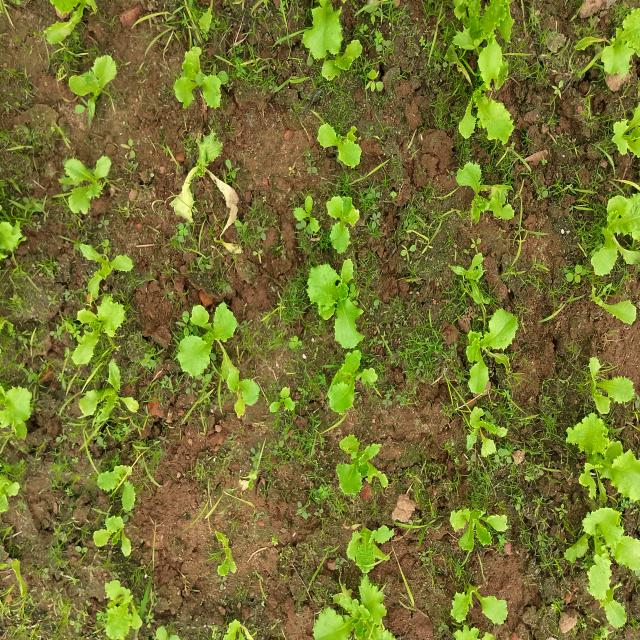Lettuce: (433, 0, 540, 87), (442, 57, 528, 152), (569, 166, 640, 264), (566, 6, 640, 100), (442, 318, 524, 399), (562, 502, 640, 586), (168, 296, 242, 377), (302, 586, 407, 640), (56, 56, 131, 127), (444, 415, 518, 486), (63, 287, 127, 369), (75, 582, 163, 640), (166, 46, 228, 128), (310, 0, 364, 83), (334, 428, 396, 499), (317, 348, 380, 416), (438, 247, 506, 310), (54, 150, 117, 217), (458, 154, 520, 222), (568, 354, 638, 412), (71, 372, 137, 430), (442, 578, 510, 634), (591, 103, 640, 177), (447, 501, 511, 557), (338, 518, 398, 572), (70, 238, 135, 286), (42, 0, 108, 45), (312, 116, 366, 168), (0, 376, 39, 441), (320, 193, 360, 252), (170, 0, 232, 38), (90, 510, 139, 558), (0, 444, 25, 520), (446, 616, 510, 640), (218, 609, 261, 640)
